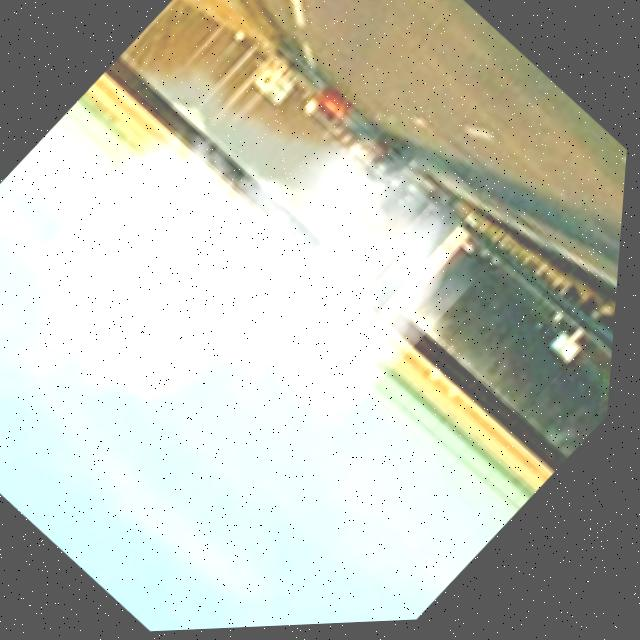Smoke: (0, 6, 523, 538)
